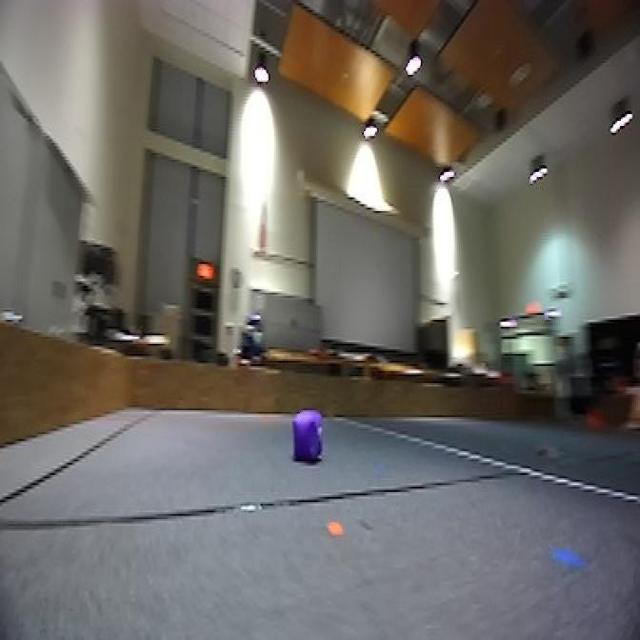frc_cube: (292, 411, 326, 466)
